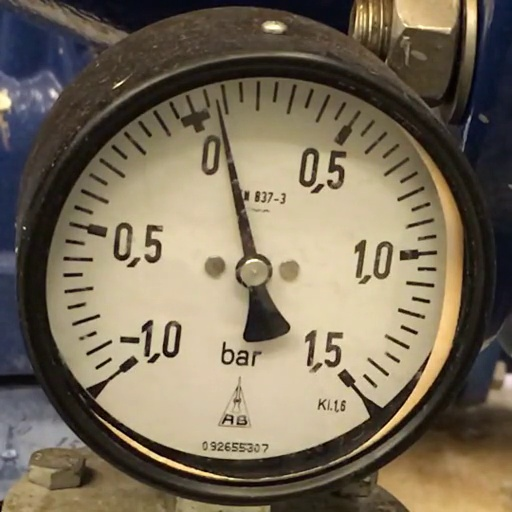base: (235, 254, 273, 288)
circle_plate: (46, 76, 466, 460)
maximum: (338, 368, 356, 388)
minimum: (119, 356, 139, 374)
number: (120, 320, 182, 364), (298, 147, 347, 194), (114, 222, 164, 268), (304, 329, 344, 374), (354, 240, 394, 284), (201, 134, 221, 176)
tip: (214, 96, 221, 104)
